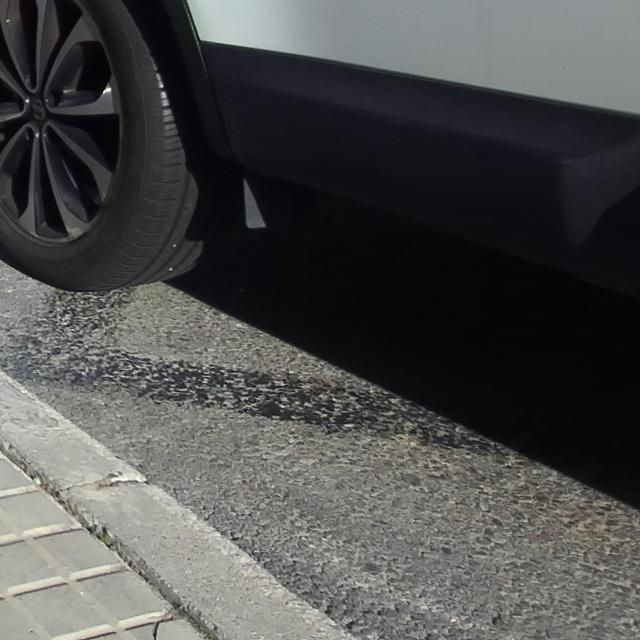calcada_quebrada: (120, 609, 188, 640)
